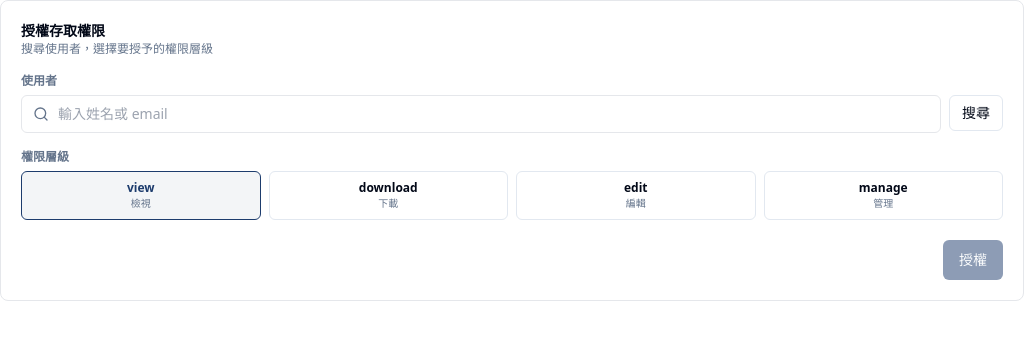
Test case: GrantPermissionForm › shows a friendly error message when the user search fails
This screenshot has width=1024, height=346.
Type "Alice" into the field with test id "user-search-input".
click(481, 114); type("Alice")  # box [21,95,941,133]
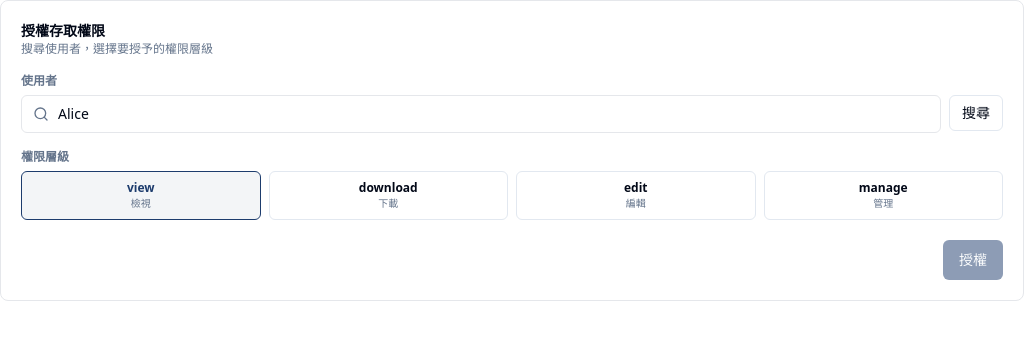
Click the button with test id "user-search-submit".
click(976, 113)  # box [949,95,1003,131]
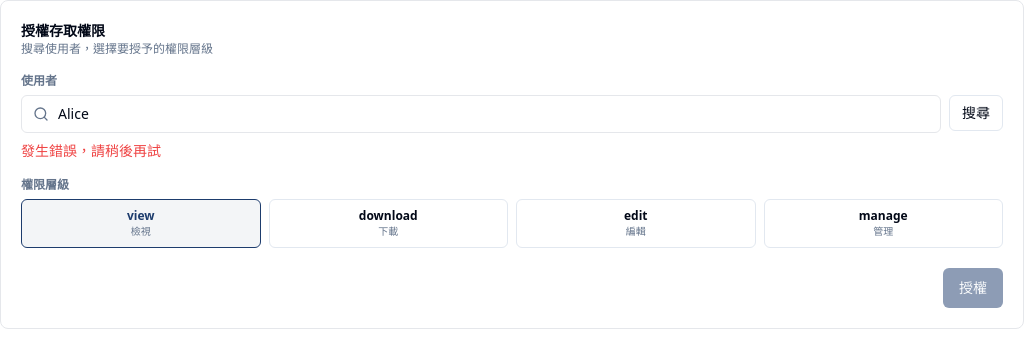
Now the text "發生錯誤，請稍後再試" is shown, box [21,141,161,160]
